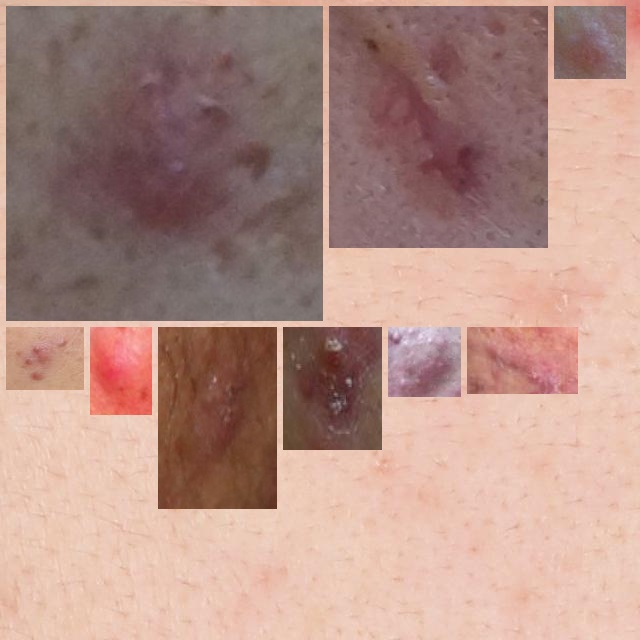nodule: (14, 14, 315, 313), (337, 14, 540, 240), (166, 335, 276, 501), (291, 335, 374, 442), (475, 335, 570, 386), (98, 335, 144, 407), (562, 14, 618, 71), (396, 335, 453, 389), (14, 335, 76, 382)
